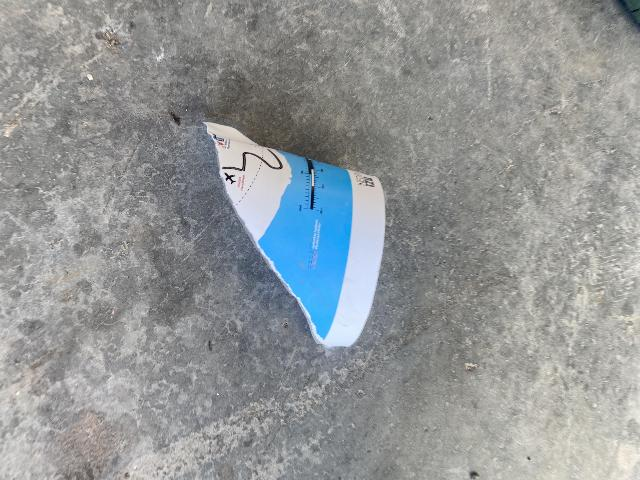Kagit: (198, 120, 389, 349)
